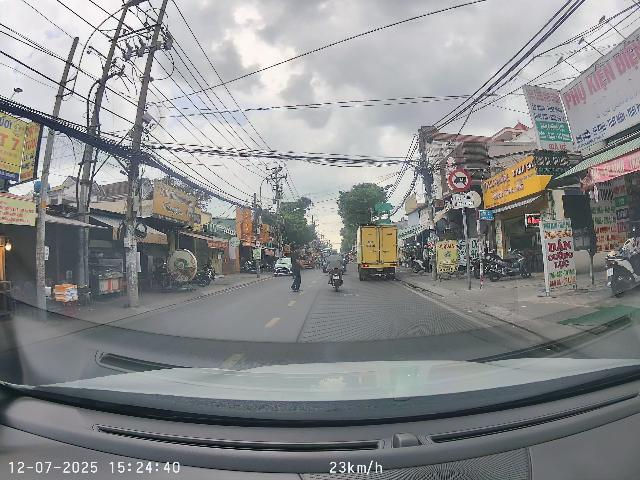106-cam-oto-tai: (449, 169, 471, 192)
